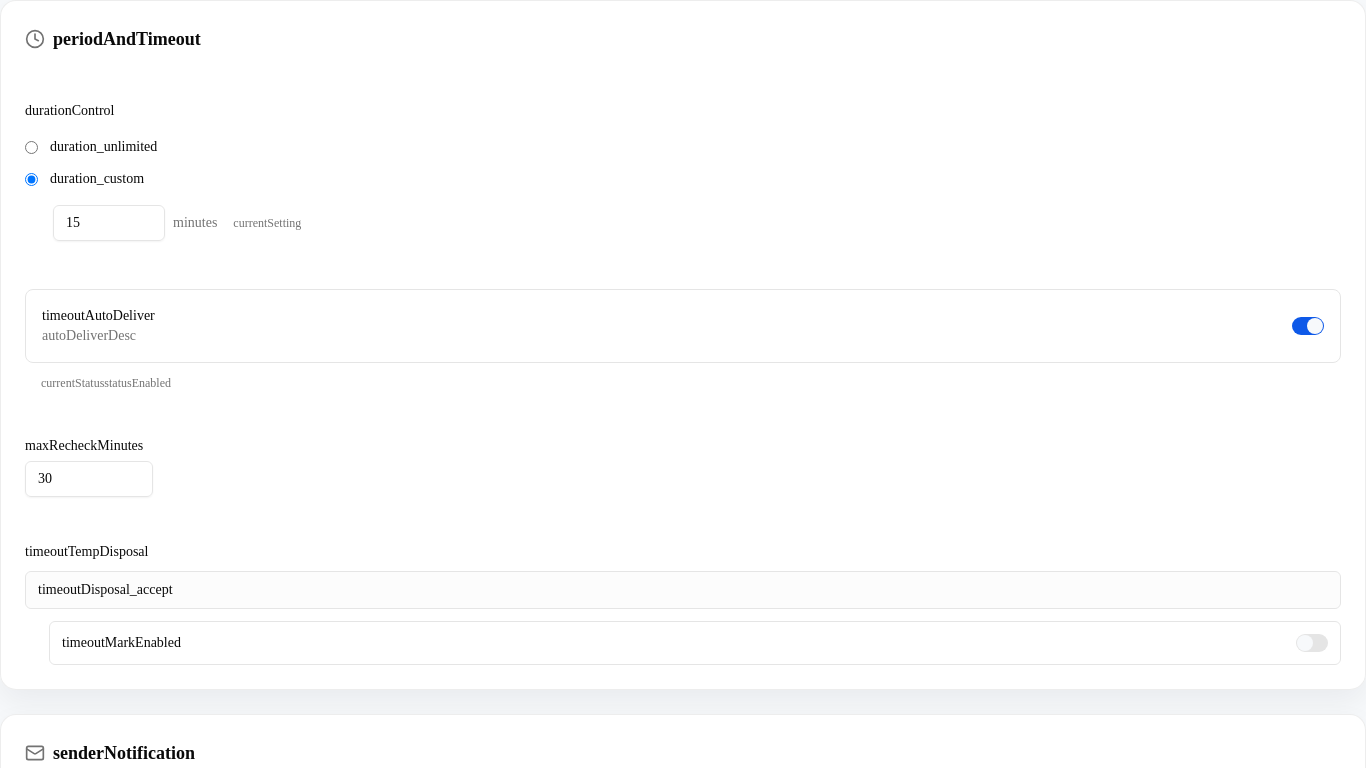
Test: ReviewSettingsTab current-status copy linked to its switch (task-12) › auto-deliver status text follows the switch state
Expected: the text with test id "disposal-settings-auto-deliver-status" reads "currentStatusstatusEnabled", [41,376,171,390]
Click the switch with test id "disposal-settings-auto-deliver".
click(1308, 326)  # box [1292,317,1324,335]
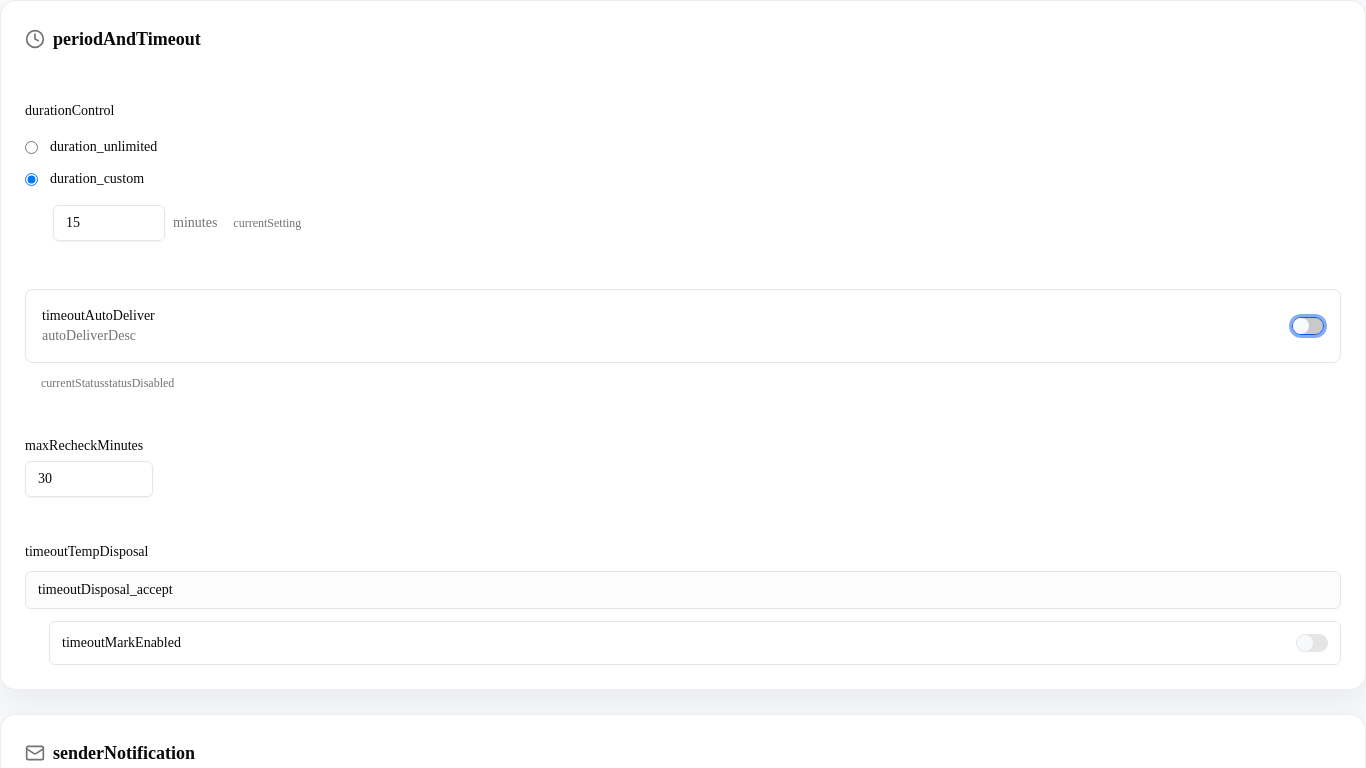
Result: the text with test id "disposal-settings-auto-deliver-status" reads "currentStatusstatusDisabled" at [41,376,174,390]
